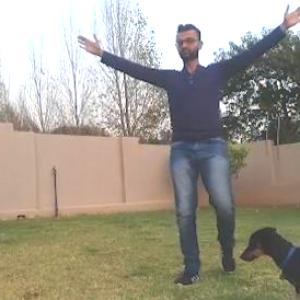takeoff: (63, 0, 299, 292)
